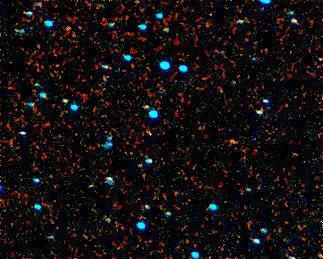star: (52, 10, 82, 40)
